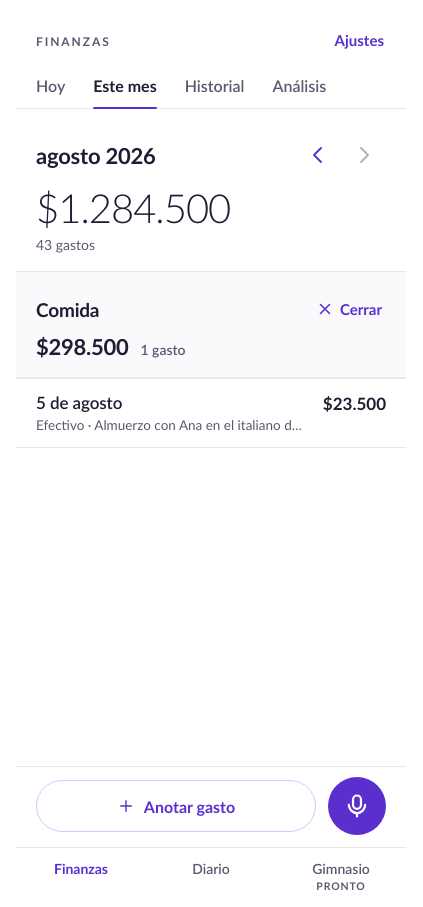
Test case: B2 / 18.9 — the month and the category live in the location › comes back to the same month and the same category after a detail round trip
Expected: the text "Comida" is shown, 36,298 -> 99,320
Expected: the text "$298.500" is shown, 36,333 -> 128,360
Step 1. Click the text "5 de agosto" → (79, 402), box 36,392 -> 122,413
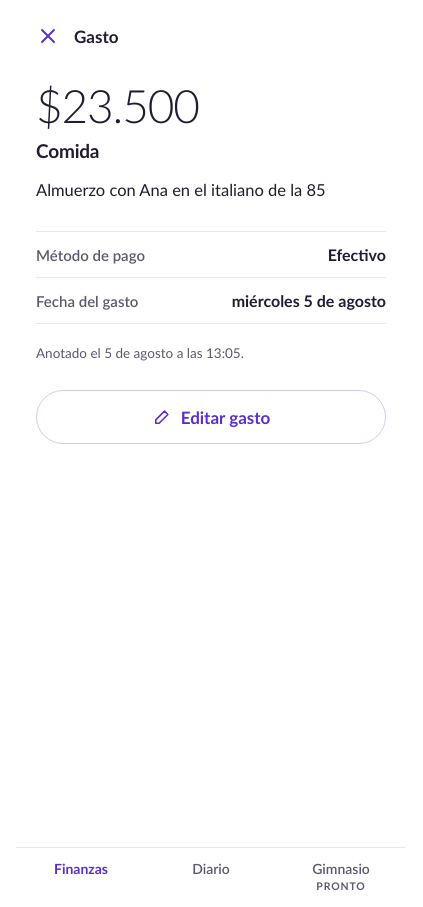
Expected: the button "Editar gasto" is shown, 36,390 -> 386,444
Step 2. Click the button named "Cerrar" → (48, 36), box 26,14 -> 70,58
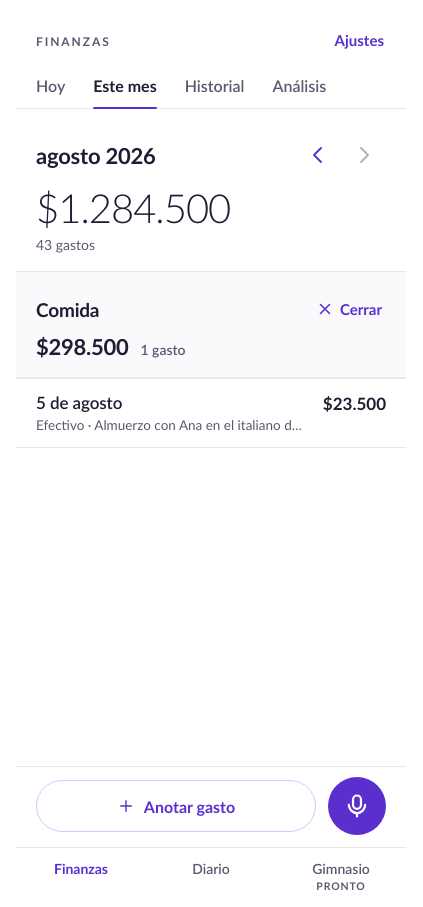
Expected: the text "agosto 2026" is shown, 36,142 -> 156,168
Expected: the text "$298.500" is shown, 36,333 -> 128,360
